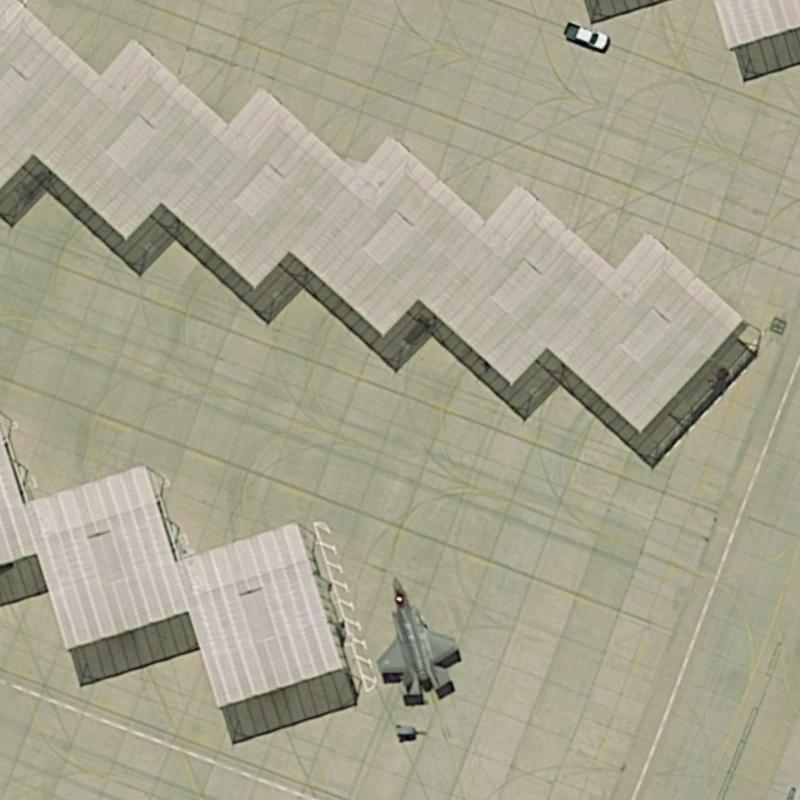A15: (367, 562, 465, 709)
